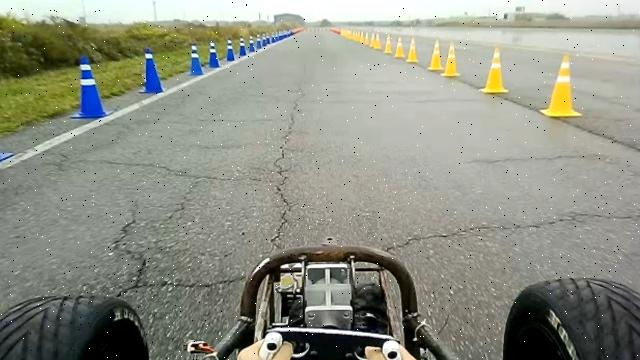blue cone: (69, 55, 113, 119), (138, 47, 164, 94), (188, 43, 204, 76), (208, 40, 220, 68), (226, 38, 236, 61), (238, 36, 247, 56), (248, 35, 256, 53)
yellow cone: (540, 54, 582, 118), (480, 47, 508, 94), (440, 42, 460, 77), (427, 39, 443, 71), (406, 36, 418, 63), (394, 36, 405, 58), (383, 34, 392, 54), (372, 32, 382, 50)
